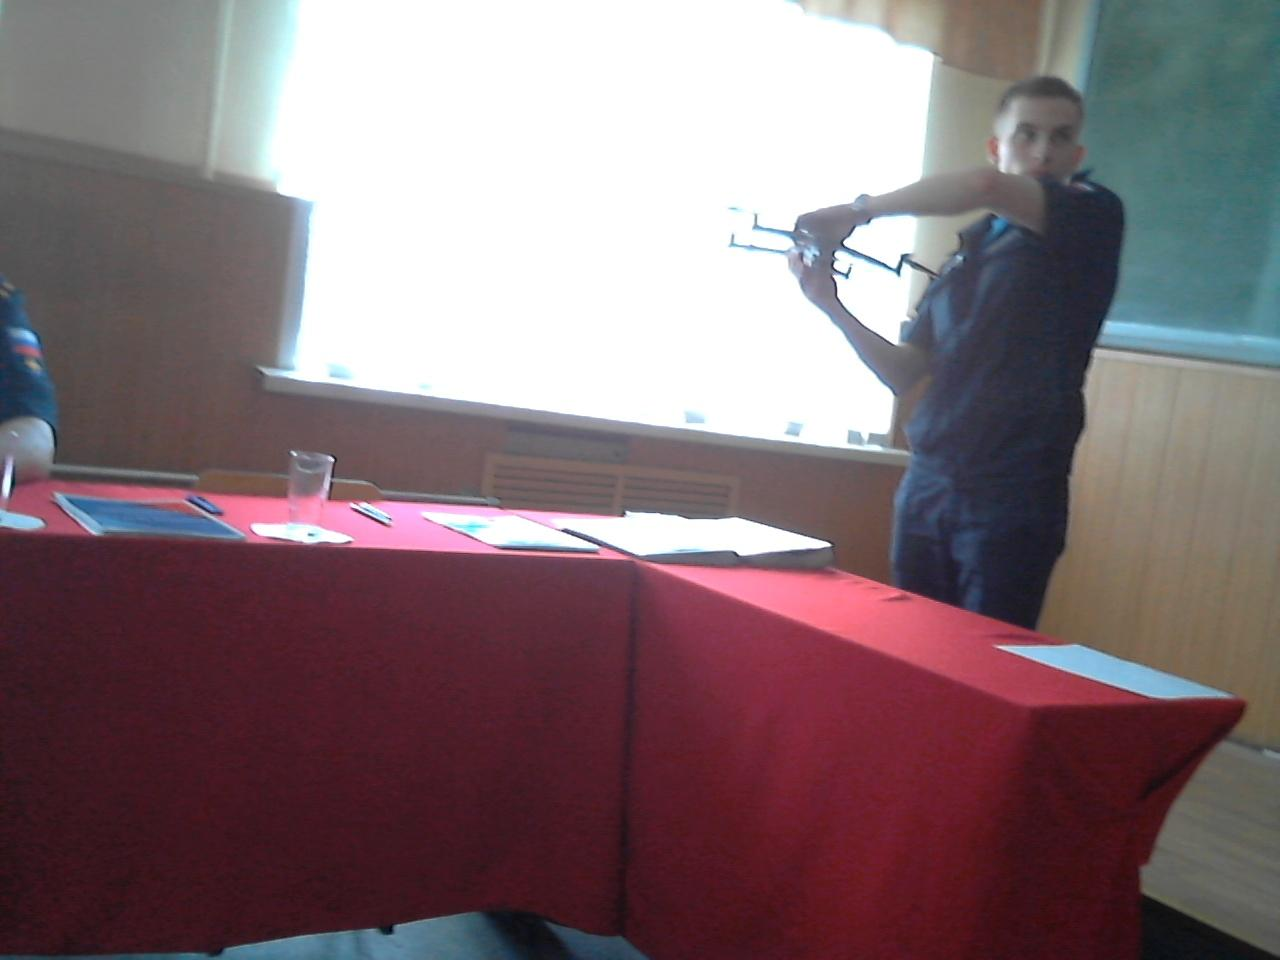drone: (710, 184, 919, 306)
